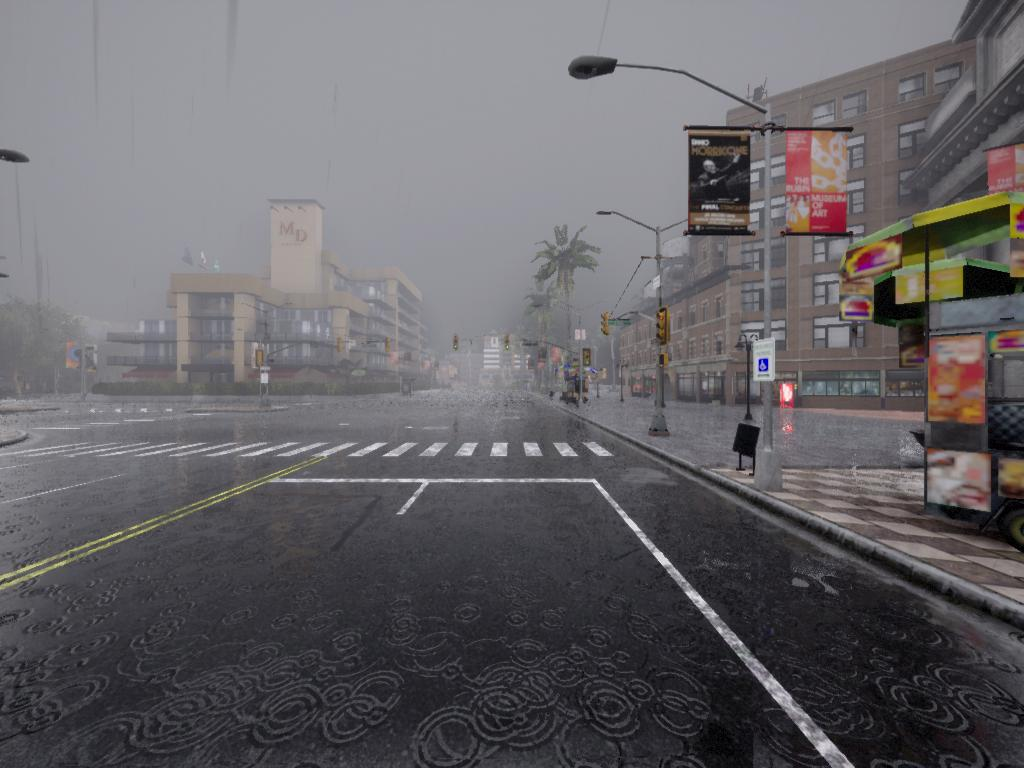traffic_light: (657, 310, 672, 345), (601, 316, 613, 337), (584, 349, 592, 368), (659, 355, 670, 367), (385, 337, 392, 354), (257, 351, 264, 368), (453, 336, 460, 351), (338, 338, 344, 355), (506, 333, 511, 351)
